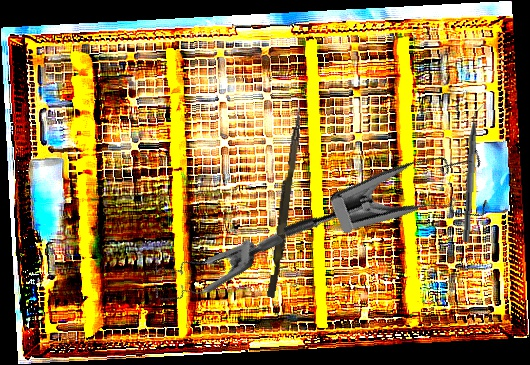Chopper: (462, 103, 487, 243)
Pusher: (266, 104, 304, 299)
Speculum: (280, 114, 509, 313), (137, 185, 285, 338)
